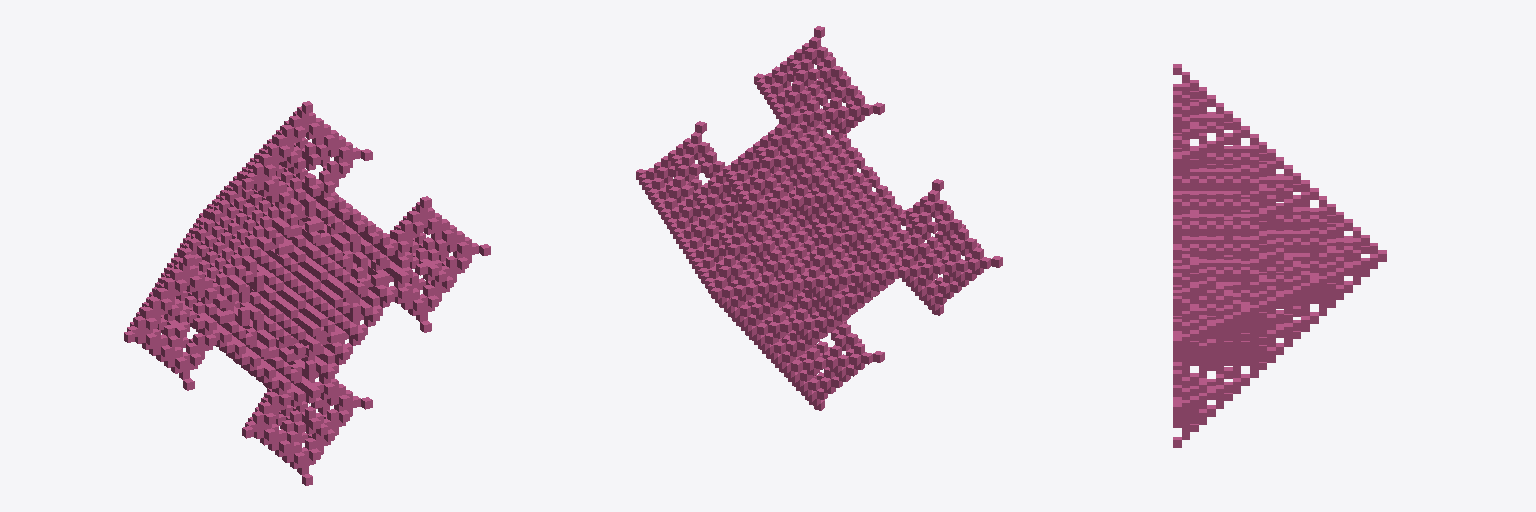
File: code422.obj
The picture shows the model from 3 angles: view 1: azimuth 30°, elevation 25°; view 2: azimuth 150°, elevation 25°; view 3: azimuth 270°, elevation 25°; orthographic projection.
Parts seen in each view (by area): view 1: cell35-20, cell31-16, cell30-15, cell33-18, cell32-17, cell34-19, cell36-21; view 2: cell32-17, cell31-16, cell33-18, cell30-15, cell35-20, cell34-19, cell36-21, cell29-14, cell37-22, cell29-22, cell28-13, cell28-21 (+1 smaller); view 3: cell32-32.
Part boxes in pixels (bbox=[...]): cell35-20: bbox=[226, 191, 271, 227]; cell31-16: bbox=[196, 229, 241, 265]; cell30-15: bbox=[189, 239, 234, 275]; cell33-18: bbox=[211, 210, 256, 246]; cell32-17: bbox=[204, 219, 249, 256]; cell34-19: bbox=[219, 200, 263, 237]; cell36-21: bbox=[233, 181, 278, 218]; cell32-17: bbox=[834, 175, 879, 212]; cell31-16: bbox=[842, 185, 887, 222]; cell33-18: bbox=[827, 166, 872, 202]; cell30-15: bbox=[849, 195, 894, 231]; cell35-20: bbox=[812, 147, 857, 183]; cell34-19: bbox=[819, 156, 864, 193]; cell36-21: bbox=[805, 137, 850, 174]; cell29-14: bbox=[857, 204, 901, 241]; cell37-22: bbox=[797, 128, 842, 164]; cell29-22: bbox=[763, 215, 808, 251]; cell28-13: bbox=[864, 214, 908, 250]; cell28-21: bbox=[770, 224, 814, 261]; cell32-32: bbox=[1173, 221, 1249, 232].
Bounding box in the file's own units: 49 × 49 × 25.